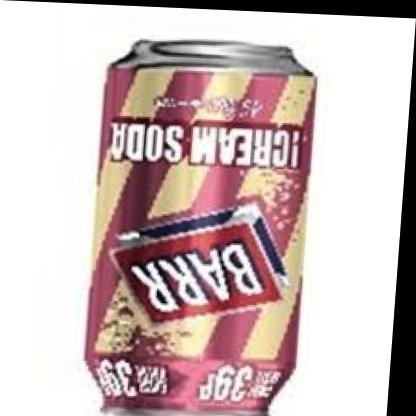trash: (86, 40, 315, 414)
